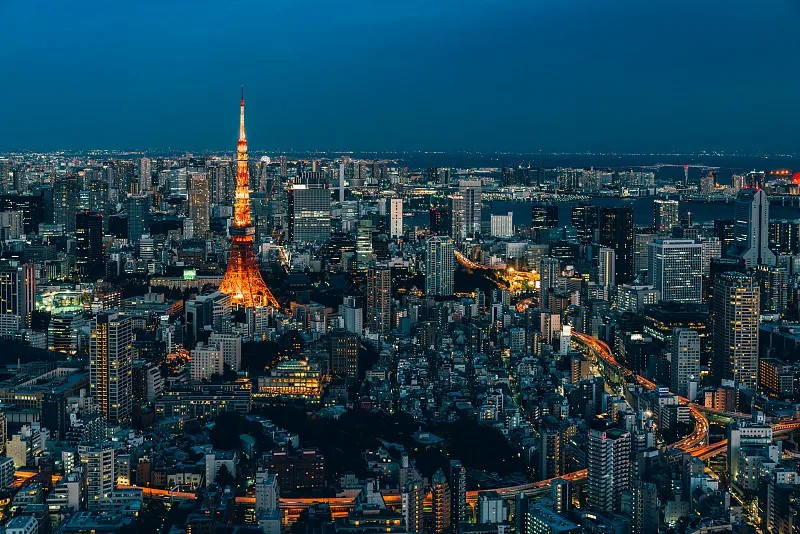Tokyo: (213, 84, 283, 313)
